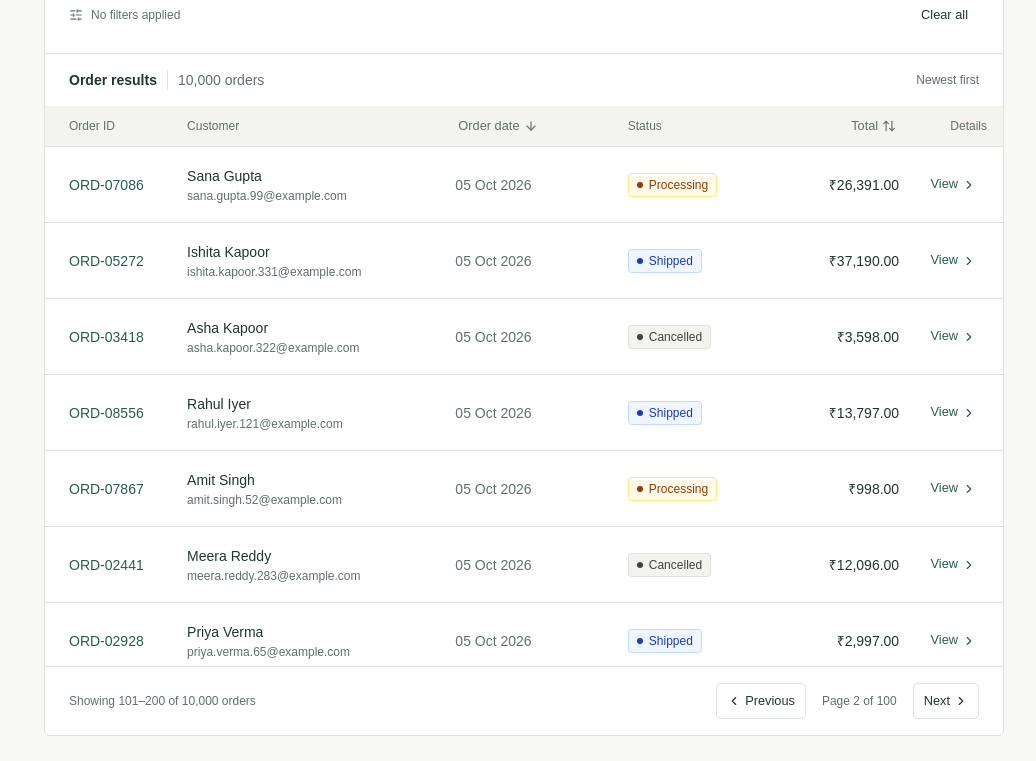
Test: restores scroll from a shared URL and resets it on the next page
(page scrolled)
Expected: the text "Page 2 of 100" is shown, [822,694,897,708]
Step 1. Click the button "Next" → point(946, 701), box [913,683,979,719]
(page scrolled)
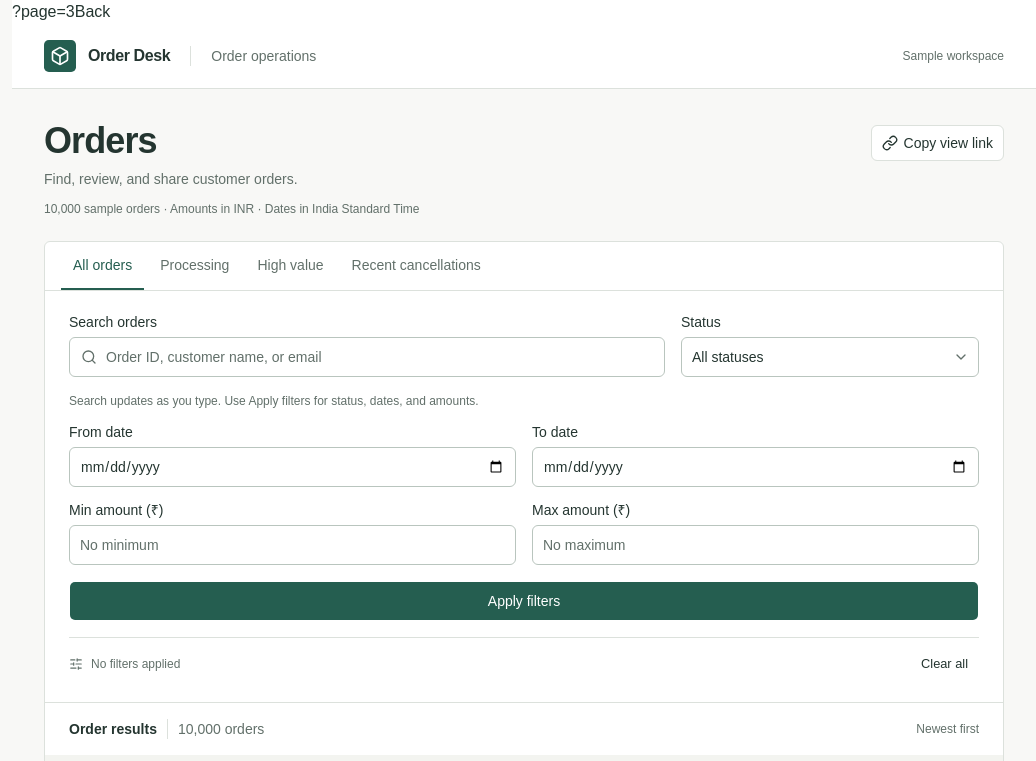
Expected: the text named "Current URL" no longer shows "scroll=", [12,3,75,20]
